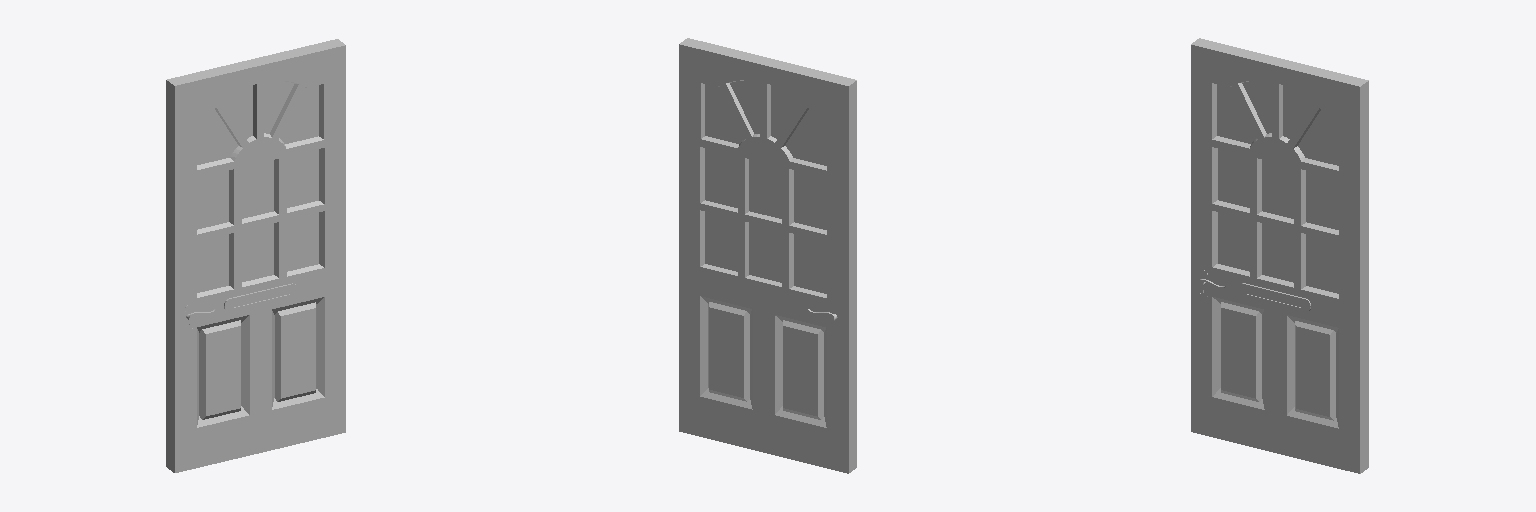
Rendered from door_000019.obj.
The picture shows the model from 3 angles: view 1: azimuth 30°, elevation 25°; view 2: azimuth 150°, elevation 25°; view 3: azimuth 330°, elevation 25°; orthographic projection.
Parts seen in each view (by area): view 1: Door.003; view 2: Door.003; view 3: Door.003.
Part boxes in pixels (left/top/right/bottom): Door.003: left=166, top=39, right=345, bottom=472; Door.003: left=679, top=38, right=856, bottom=473; Door.003: left=1191, top=38, right=1368, bottom=473.
Size of the model in its own units: 0.74 by 1.6 by 0.1156.